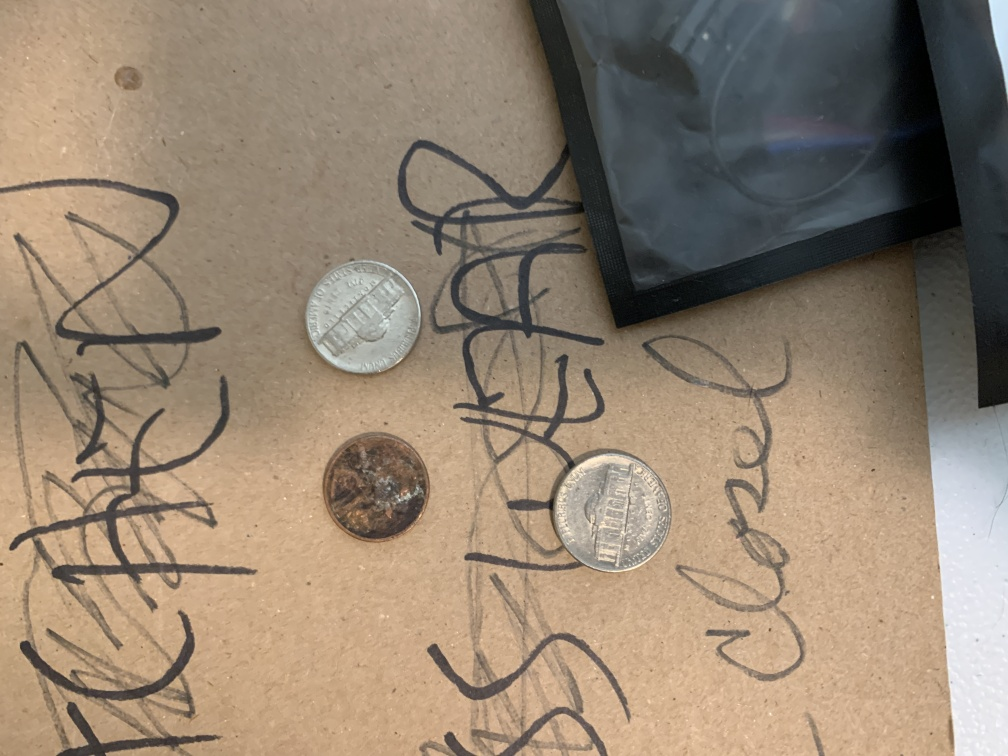nickel: (548, 448, 676, 577), (303, 254, 423, 380)
penny: (315, 428, 434, 550)
